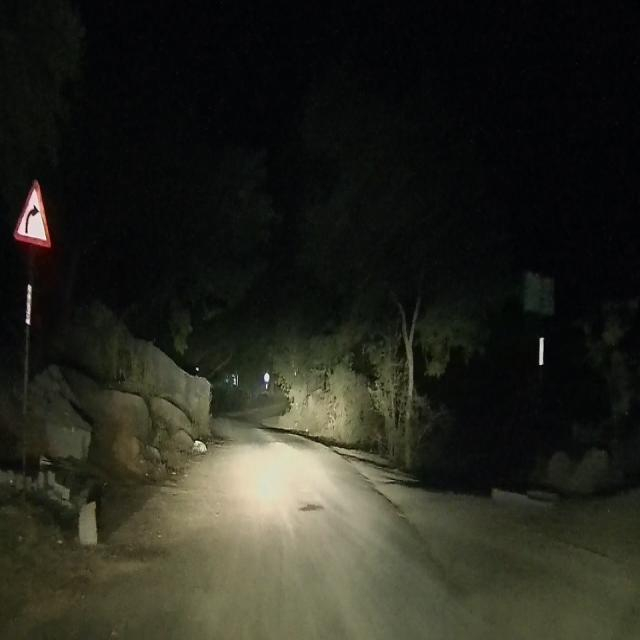right-hand-curve: (16, 178, 48, 242)
